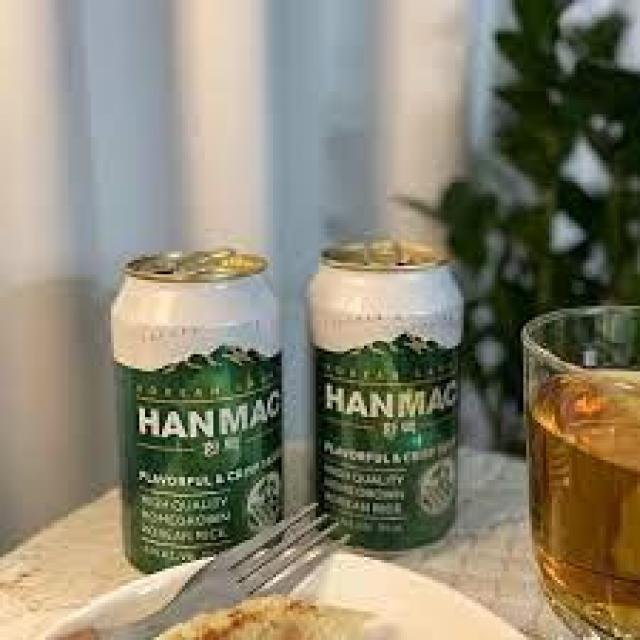beer-can: (293, 238, 481, 568), (105, 246, 290, 568)
